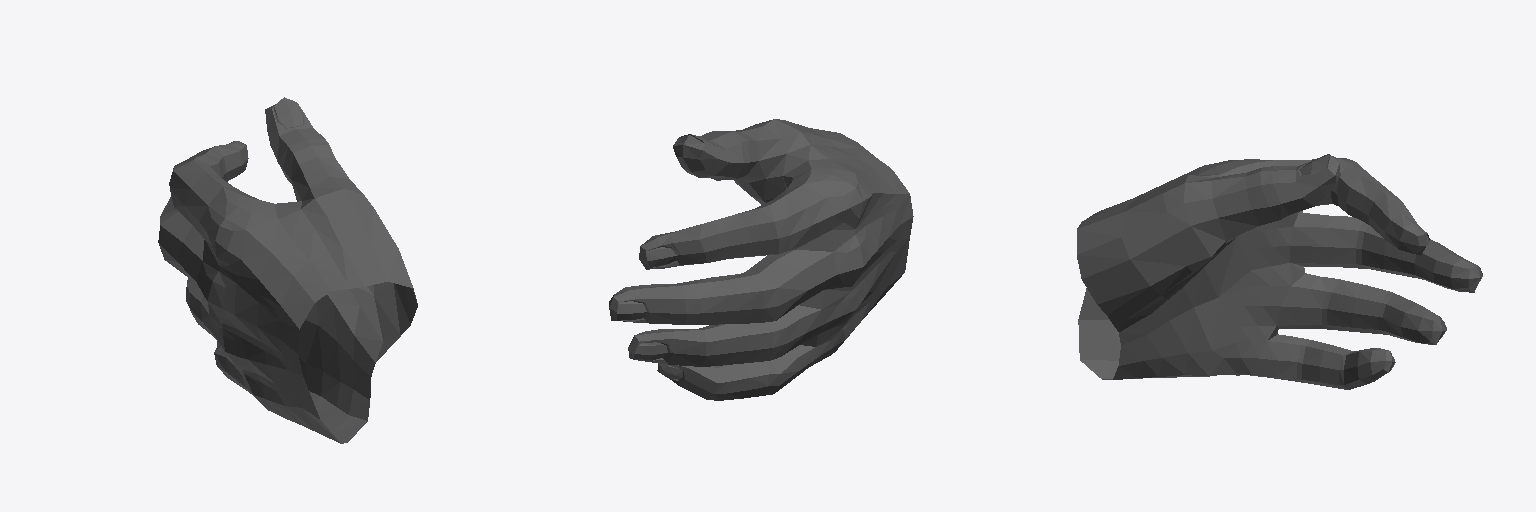
File: l_hand.obj
3 renders of one model, left to right at view 1: azimuth 30°, elevation 25°; view 2: azimuth 150°, elevation 25°; view 3: azimuth 270°, elevation 25°, orthographic.
Parts seen in each view (by area): view 1: zoey_color_bmp_006_zoey_color_bmp.006; view 2: zoey_color_bmp_006_zoey_color_bmp.006; view 3: zoey_color_bmp_006_zoey_color_bmp.006.
Boxes of the visible parts, <box> form: zoey_color_bmp_006_zoey_color_bmp.006: <box>158,97,417,443</box>; zoey_color_bmp_006_zoey_color_bmp.006: <box>609,119,913,400</box>; zoey_color_bmp_006_zoey_color_bmp.006: <box>1077,154,1482,389</box>.
Size of the model in its own units: 0.0481 by 0.0809 by 0.117.